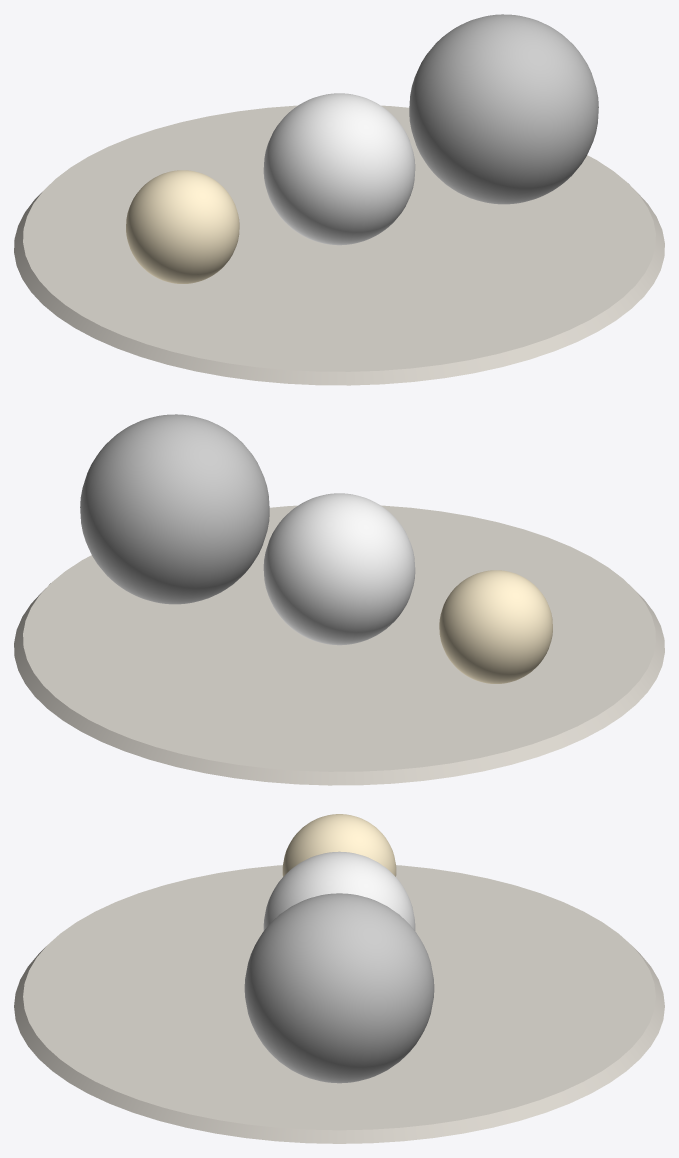
Rendered from white.glb.
3 views of the same model, one above another, from view 1: azimuth 30°, elevation 25°; view 2: azimuth 150°, elevation 25°; view 3: azimuth 270°, elevation 25° (orthographic).
Visible parts, largest first — view 1: base, dark, normal, light; view 2: base, dark, normal, light; view 3: base, dark, normal, light.
Boxes of the visible parts, left/top/right/bottom form: base: left=14, top=105, right=664, bottom=385; dark: left=409, top=14, right=598, bottom=204; normal: left=263, top=93, right=415, bottom=245; light: left=126, top=170, right=239, bottom=283; base: left=14, top=505, right=664, bottom=785; dark: left=80, top=414, right=269, bottom=604; normal: left=263, top=493, right=415, bottom=645; light: left=439, top=570, right=552, bottom=683; base: left=14, top=865, right=664, bottom=1143; dark: left=244, top=893, right=434, bottom=1083; normal: left=263, top=851, right=415, bottom=930; light: left=282, top=814, right=396, bottom=876.
Bounding box in the file's own units: 3.6 × 1.12 × 3.6.
